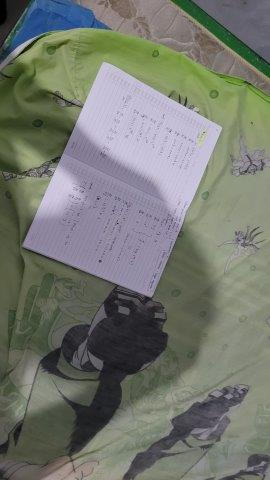kertas: (22, 62, 222, 294)
